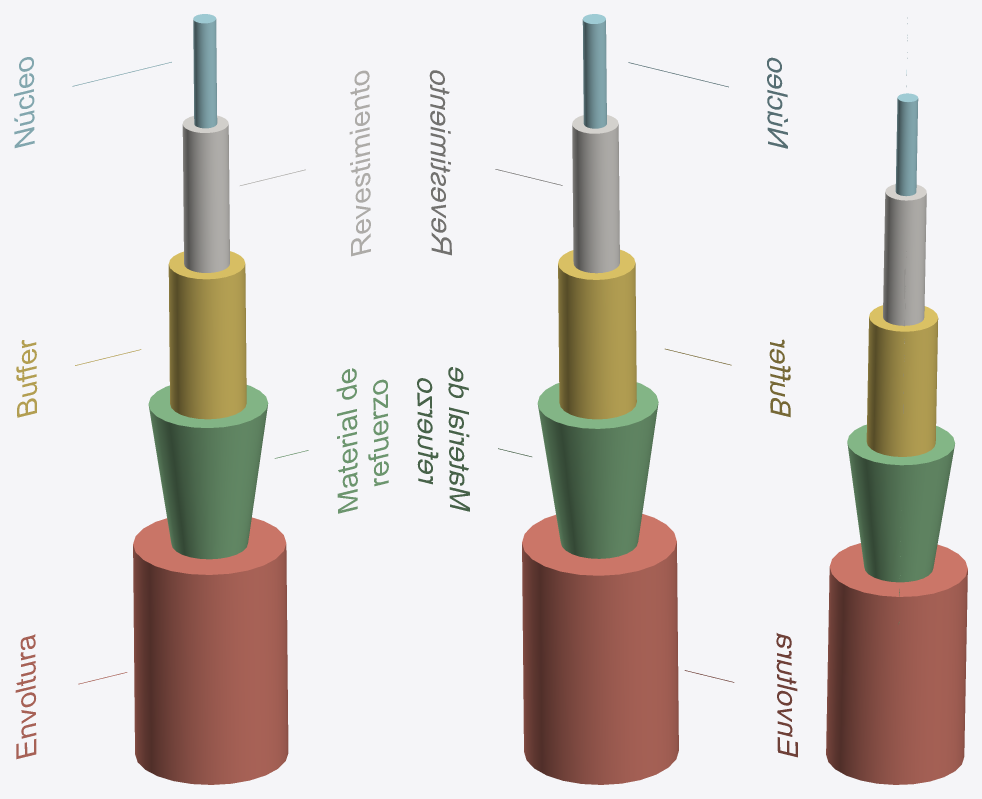
File: ElementosF0.glb
3 views of the same model, side by side, from view 1: azimuth 30°, elevation 25°; view 2: azimuth 150°, elevation 25°; view 3: azimuth 270°, elevation 25° (orthographic). The views are drawn at different scales.
Parts seen in each view (by area): view 1: Elementos Fibra Óptica; view 2: Elementos Fibra Óptica; view 3: Elementos Fibra Óptica.
Boxes of the visible parts, x1,y1,x2,y2 form: Elementos Fibra Óptica: (14,14,388,784); Elementos Fibra Óptica: (417,14,797,784); Elementos Fibra Óptica: (826,17,967,784).
Bounding box in the file's own units: 56.36 × 106 × 20.52.
